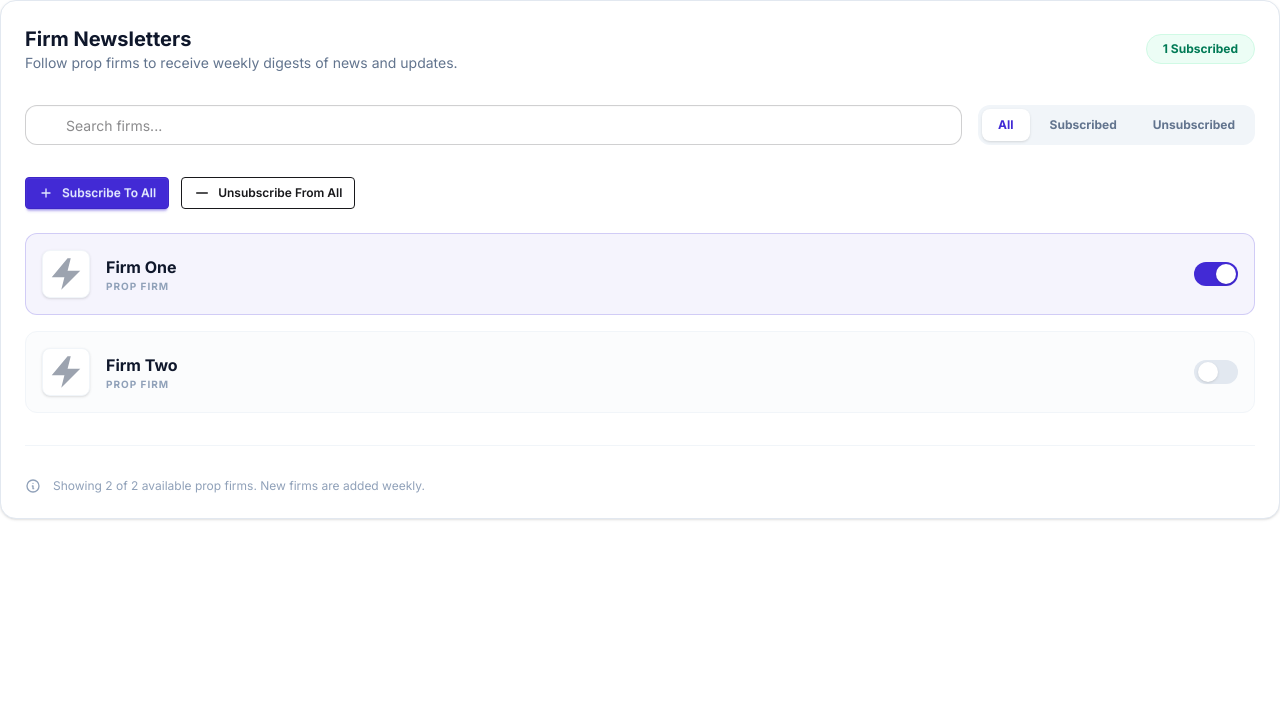
SubscriptionsSection › filters by subscribed tab
Check: the heading "Firm One" is shown, box [106, 254, 177, 278]
Step 1. Click the button "subscribed" → point(1083, 125), box [1034, 109, 1133, 141]
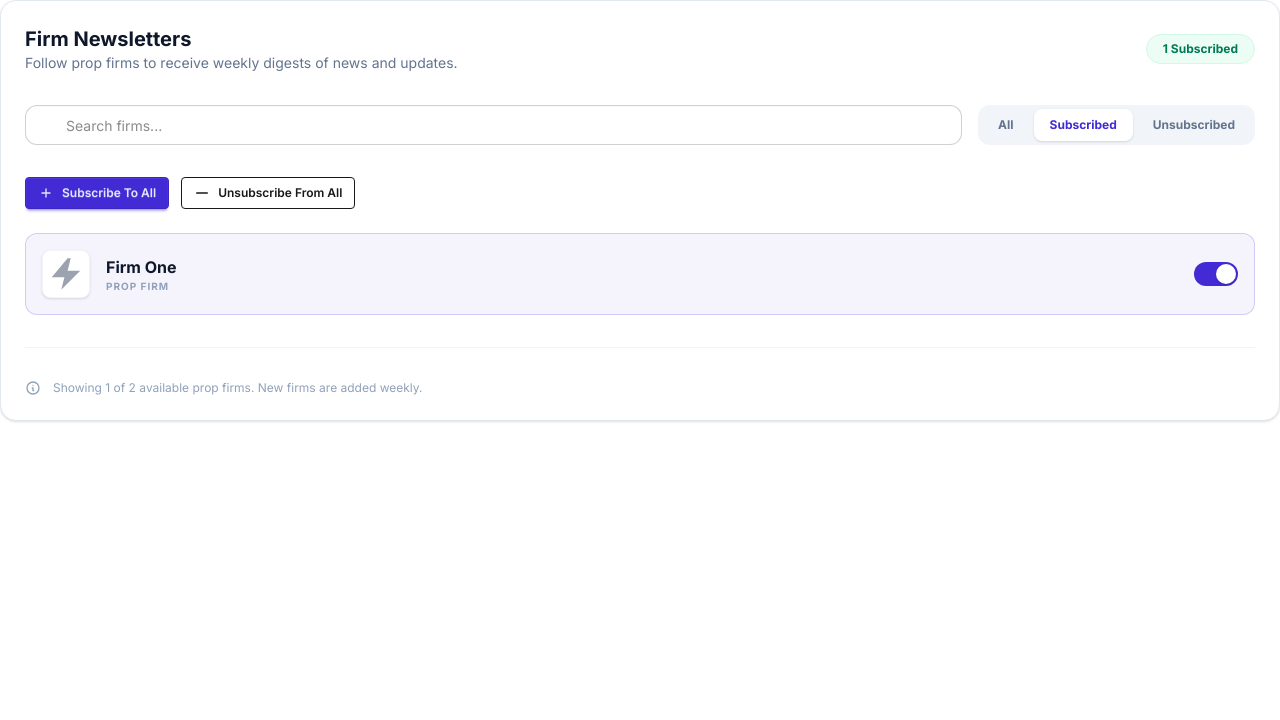
Check: the heading "Firm One" is shown, box [106, 254, 177, 278]
Check: the heading "Firm Two" is gone
